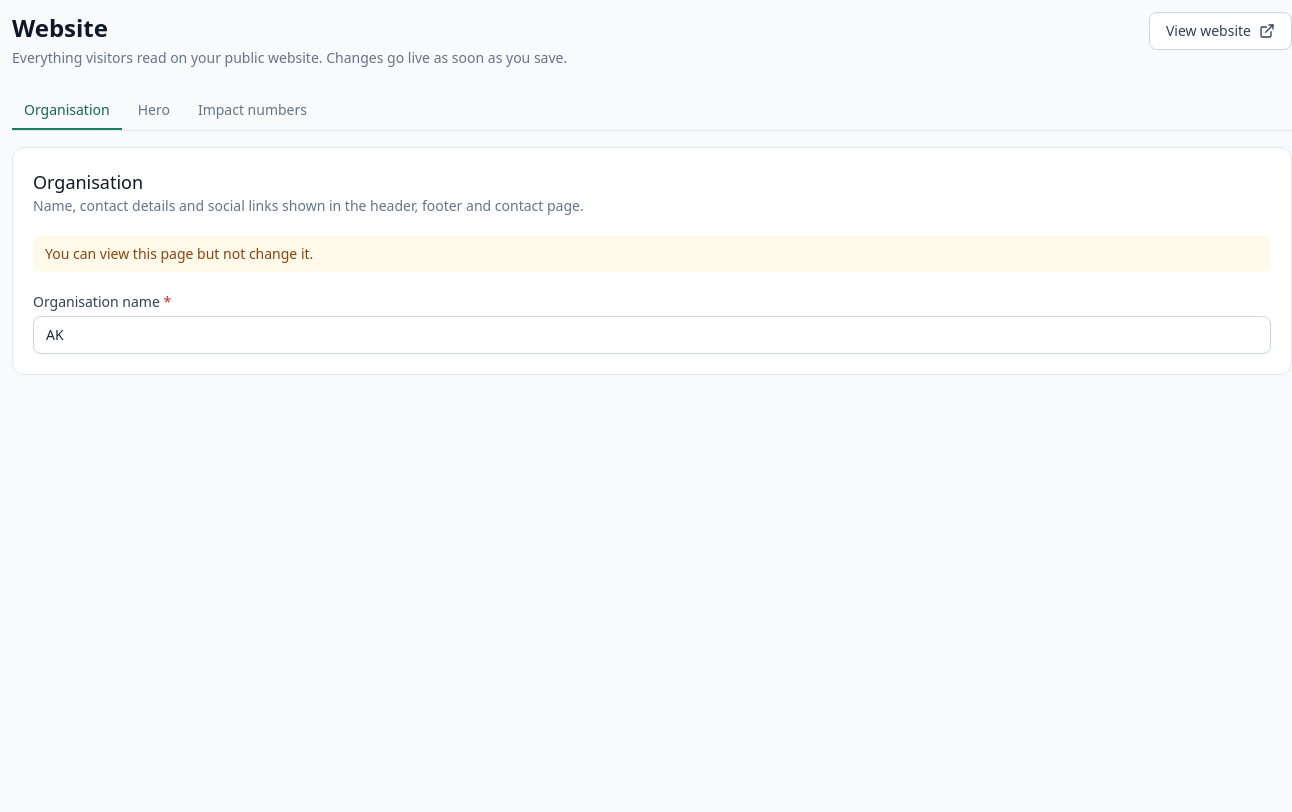
Test case: website CMS › is read-only without settings.edit
Click the tab "Hero". click: click(154, 111)
box: [126,92,182,130]
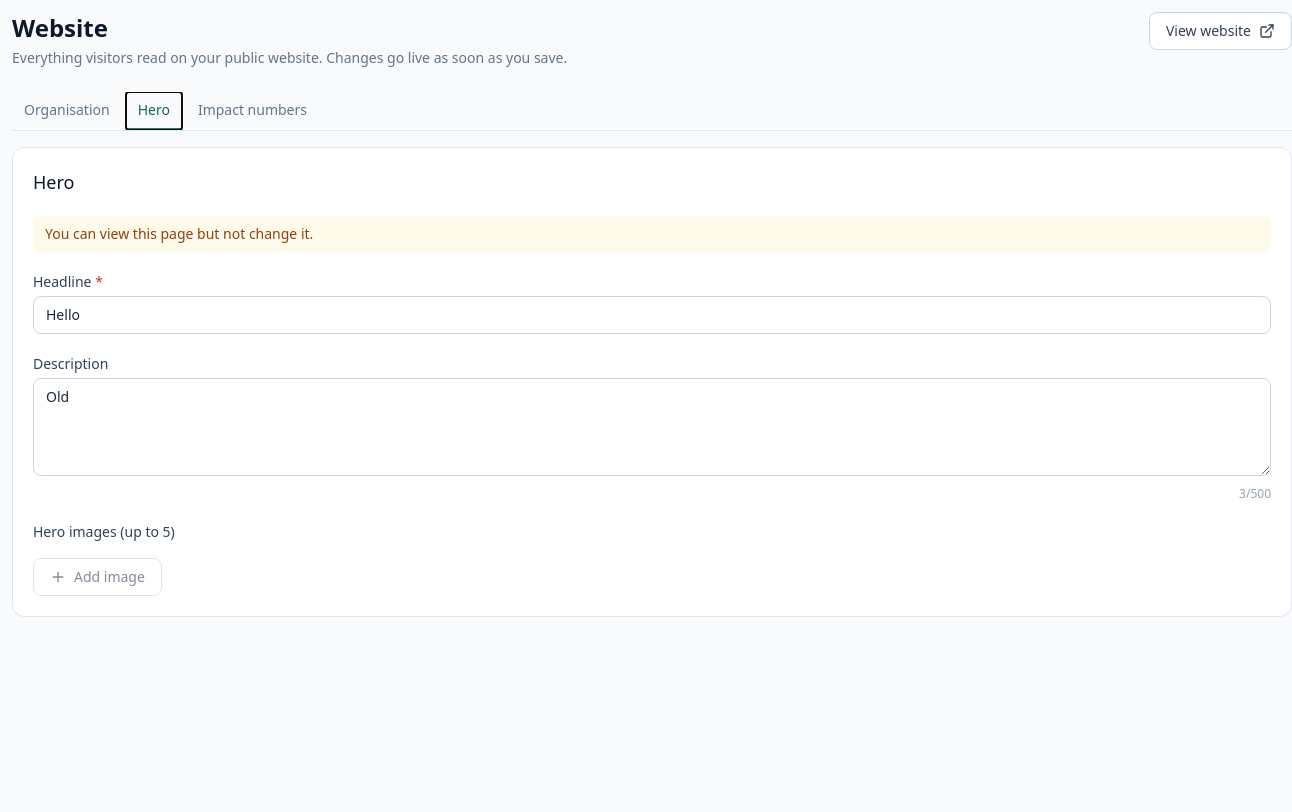
Expected: the text "You can view this page but not change it." is shown, [33,216,1271,252]
Expected: the field labelled "Headline *" is disabled, [33,296,1271,334]
